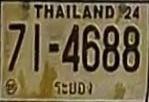1: (34, 23, 40, 70)
4: (62, 24, 78, 70)
6: (82, 24, 99, 71)
7: (7, 23, 24, 71)
8: (122, 25, 139, 71), (102, 25, 118, 71)
RYG: (50, 78, 95, 96)
